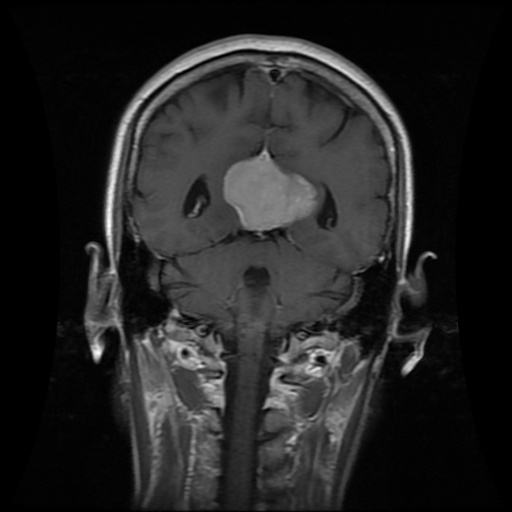meningioma: (223, 154, 315, 232)
